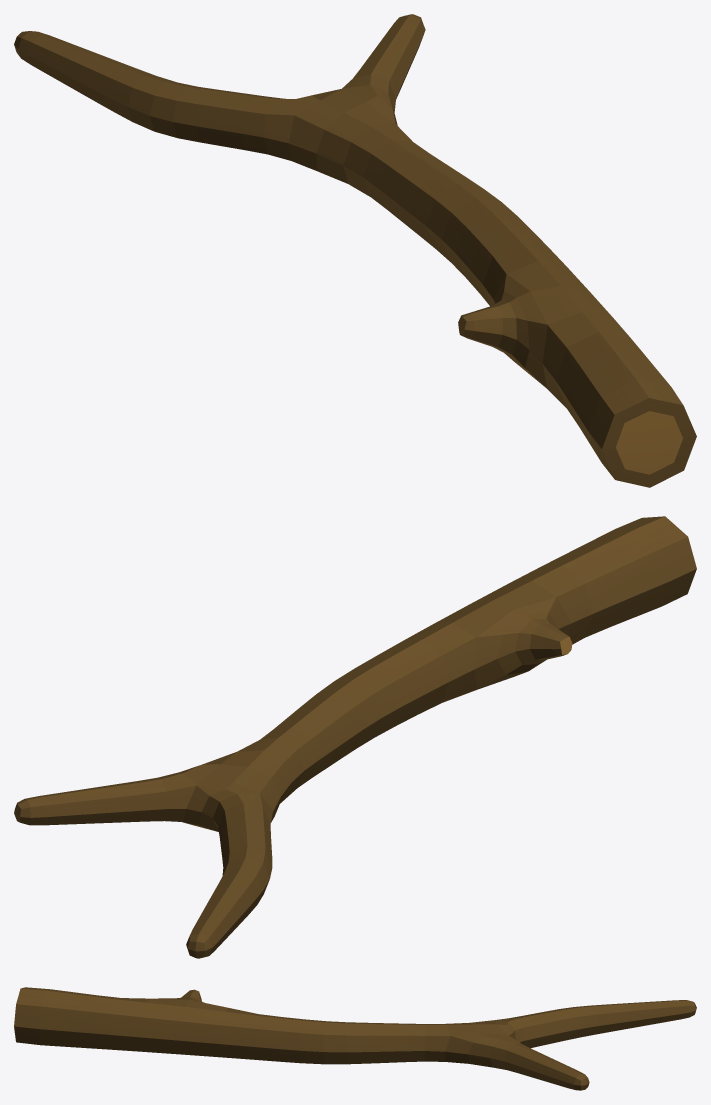
Rendered from stick.glb.
The picture shows the model from 3 angles, top to bottom: view 1: azimuth 30°, elevation 25°; view 2: azimuth 150°, elevation 25°; view 3: azimuth 270°, elevation 25°; orthographic projection. The views are drawn at different scales.
Parts seen in each view (by area): view 1: Stick; view 2: Stick; view 3: Stick.
Part boxes in pixels (box(x1,y1,x2,y2)): Stick: box(14, 14, 696, 487); Stick: box(14, 516, 696, 958); Stick: box(14, 987, 696, 1090).
Size of the model in its own units: 0.2563 by 0.0711 by 0.8284.
Materials: 1 (1 with a texture image).
